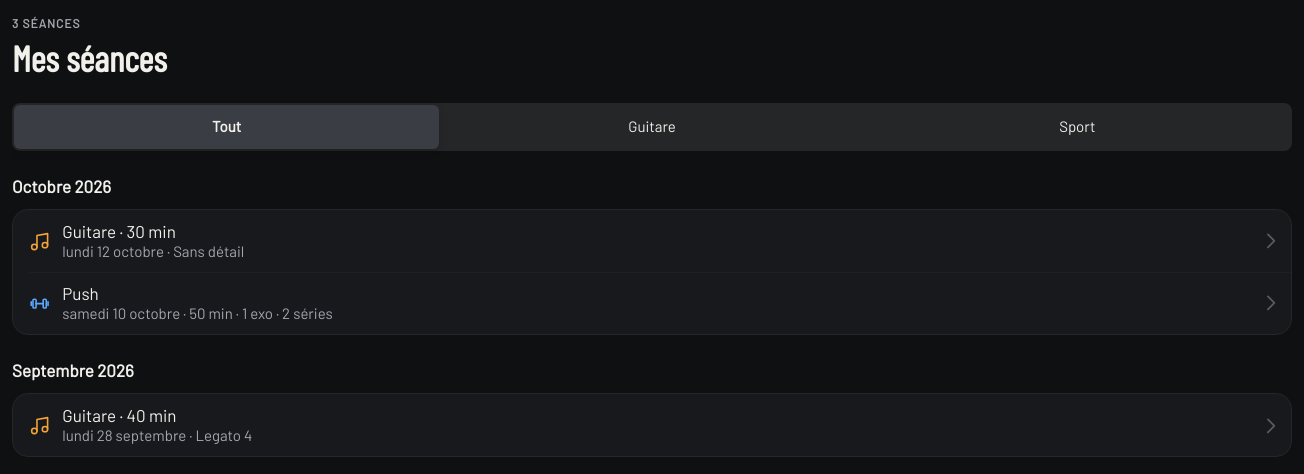
Test: HistoryPage › filtre par discipline
Click the button "Sport". click: (1077, 127)
box: [865,105,1290,149]
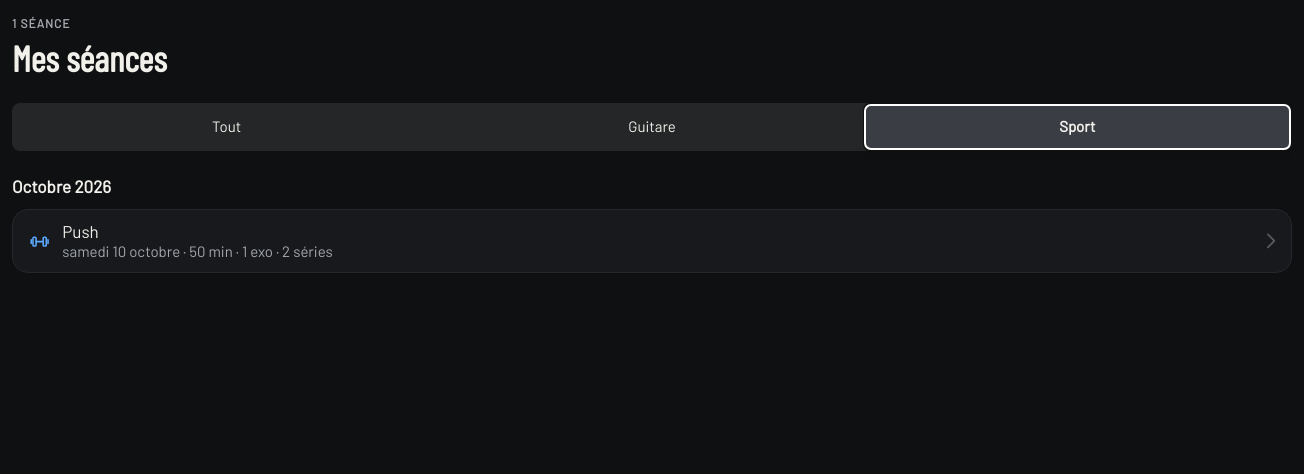
Expected: the number of links is 1, [13,210,1291,272]
Expected: the text "1 séance" is shown, [12,16,70,30]
